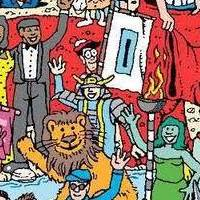waldo: (76, 36, 100, 74)
